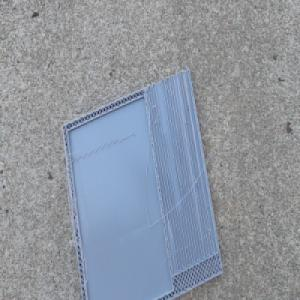PlasticPart: (60, 65, 224, 299)
